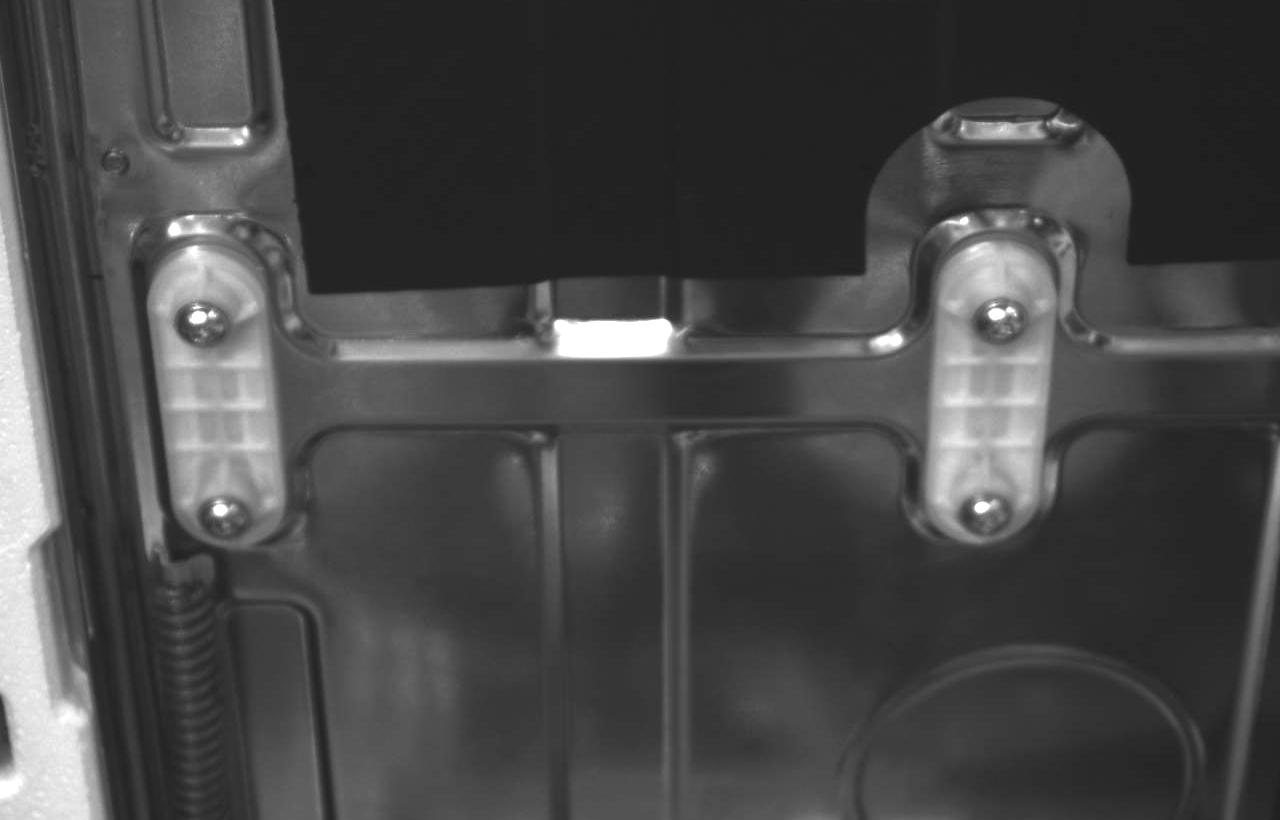vida-ok: (167, 279, 254, 357), (959, 284, 1047, 357), (190, 477, 271, 542), (950, 485, 1025, 543)
